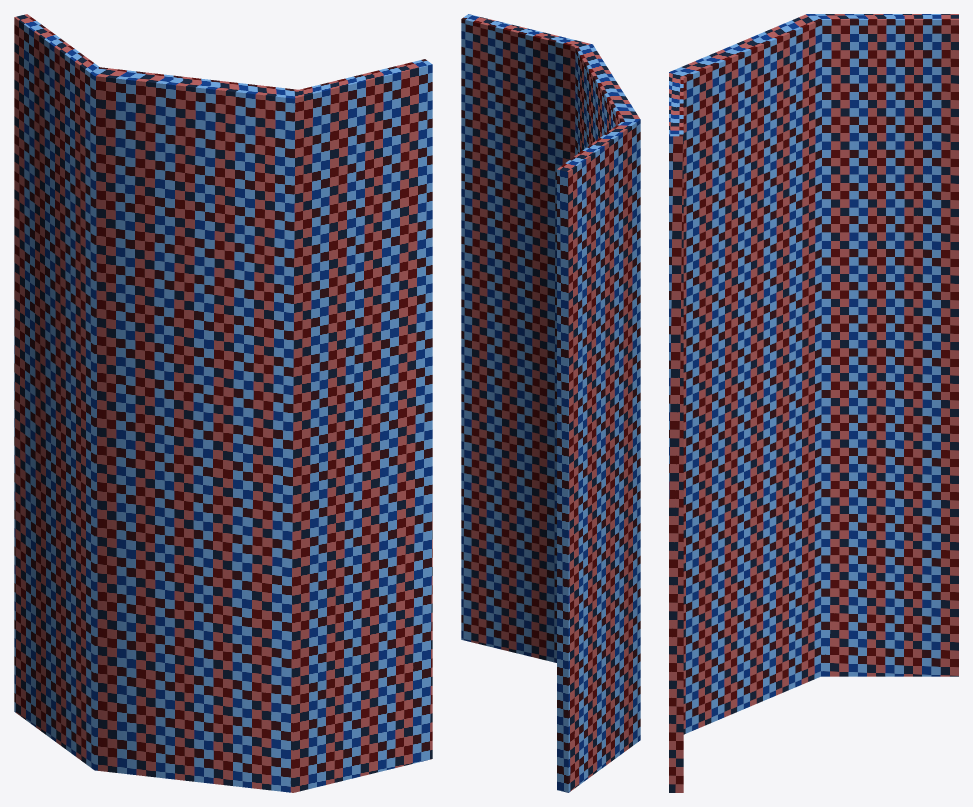
Rendered from wall_HalfTurn_angled_01.fbx.
The picture shows the model from 3 angles, left to right: view 1: azimuth 30°, elevation 25°; view 2: azimuth 150°, elevation 25°; view 3: azimuth 270°, elevation 25°; orthographic projection. The views are drawn at different scales.
Visible parts, largest first — view 1: wall_half_turn_angled_01; view 2: wall_half_turn_angled_01; view 3: wall_half_turn_angled_01.
Part boxes in pixels (box(x1,y1,x2,y2)): wall_half_turn_angled_01: box(14, 14, 432, 792); wall_half_turn_angled_01: box(461, 14, 640, 792); wall_half_turn_angled_01: box(669, 14, 958, 792).
Size of the model in its own units: 200 by 500 by 200.
Materials: 1 (1 with a texture image).
